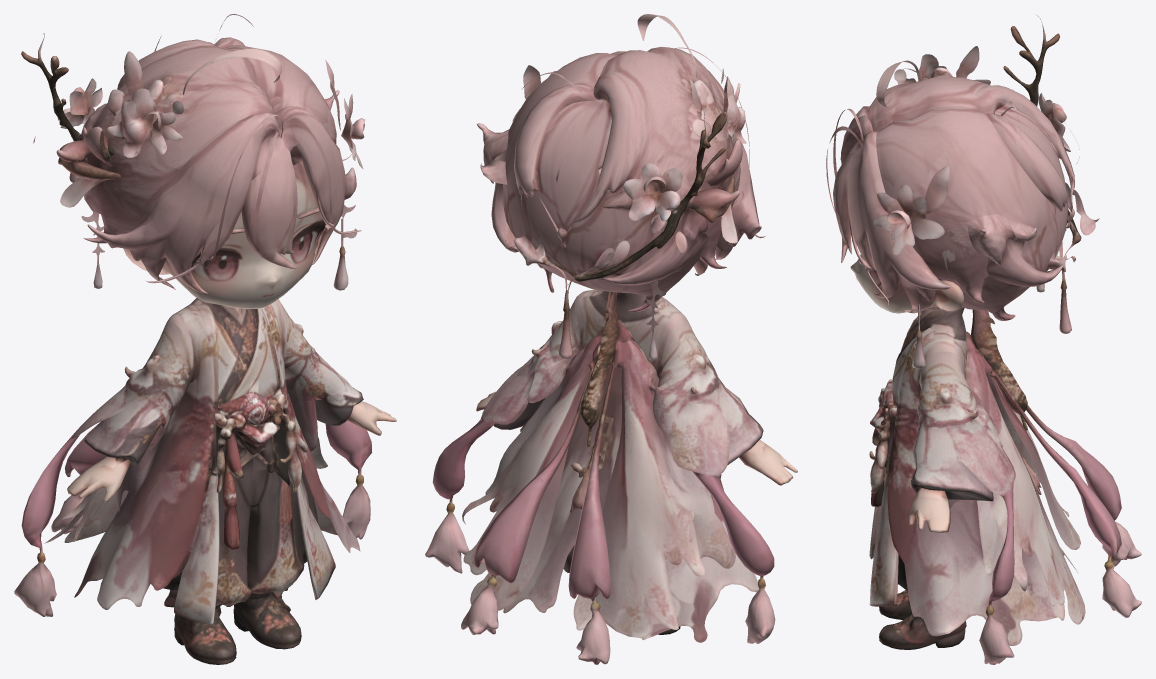
The model's file is source.glb.
3 views of the same model, side by side, from view 1: azimuth 30°, elevation 25°; view 2: azimuth 150°, elevation 25°; view 3: azimuth 270°, elevation 25° (orthographic). The views are drawn at different scales.
Visible parts, largest first — view 1: tripo_part_14, tripo_part_11, tripo_part_37, tripo_part_7, tripo_part_5, tripo_part_24, tripo_part_38, tripo_part_0, tripo_part_13, tripo_part_36, tripo_part_25, tripo_part_20 (+26 smaller); view 2: tripo_part_15, tripo_part_22, tripo_part_11, tripo_part_21, tripo_part_44, tripo_part_14, tripo_part_6, tripo_part_5, tripo_part_40, tripo_part_39, tripo_part_10, tripo_part_20 (+20 smaller); view 3: tripo_part_22, tripo_part_13, tripo_part_21, tripo_part_0, tripo_part_36, tripo_part_10, tripo_part_11, tripo_part_32, tripo_part_19, tripo_part_6, tripo_part_15, tripo_part_39 (+22 smaller).
Boxes of the visible parts, left/top/right/bottom form: tripo_part_14: left=84, top=300, right=226, bottom=624; tripo_part_11: left=88, top=45, right=274, bottom=234; tripo_part_37: left=87, top=115, right=261, bottom=293; tripo_part_7: left=216, top=454, right=304, bottom=606; tripo_part_5: left=84, top=323, right=194, bottom=511; tripo_part_24: left=123, top=161, right=325, bottom=309; tripo_part_38: left=190, top=298, right=280, bottom=408; tripo_part_0: left=280, top=303, right=363, bottom=451; tripo_part_13: left=261, top=299, right=360, bottom=599; tripo_part_36: left=274, top=106, right=361, bottom=264; tripo_part_25: left=241, top=144, right=297, bottom=269; tripo_part_20: left=14, top=433, right=80, bottom=616; tripo_part_15: left=595, top=340, right=735, bottom=638; tripo_part_22: left=494, top=51, right=683, bottom=280; tripo_part_11: left=599, top=46, right=740, bottom=258; tripo_part_21: left=462, top=319, right=632, bottom=610; tripo_part_44: left=503, top=324, right=634, bottom=613; tripo_part_14: left=573, top=297, right=759, bottom=639; tripo_part_6: left=568, top=365, right=614, bottom=664; tripo_part_5: left=658, top=317, right=763, bottom=498; tripo_part_40: left=557, top=72, right=646, bottom=248; tripo_part_39: left=474, top=360, right=596, bottom=583; tripo_part_10: left=425, top=382, right=514, bottom=573; tripo_part_20: left=692, top=471, right=775, bottom=643; tripo_part_22: left=876, top=101, right=1068, bottom=303; tripo_part_13: left=869, top=325, right=1057, bottom=645; tripo_part_21: left=965, top=331, right=1085, bottom=624; tripo_part_0: left=911, top=351, right=1002, bottom=515; tripo_part_36: left=847, top=131, right=950, bottom=313; tripo_part_10: left=969, top=461, right=1015, bottom=664; tripo_part_11: left=857, top=67, right=990, bottom=131; tripo_part_32: left=967, top=214, right=1063, bottom=287; tripo_part_19: left=985, top=110, right=1067, bottom=211; tripo_part_6: left=1026, top=405, right=1141, bottom=566; tripo_part_15: left=986, top=372, right=1080, bottom=549; tripo_part_39: left=990, top=368, right=1121, bottom=559.
Bounding box in the file's own units: 0.6102 × 1 × 0.5105.
Materials: 1 (1 with a texture image).
